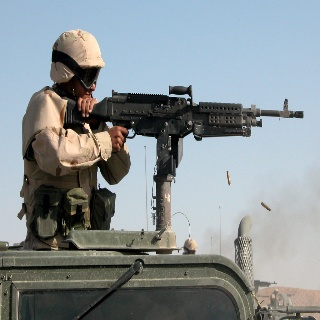rifle: (59, 84, 306, 141)
